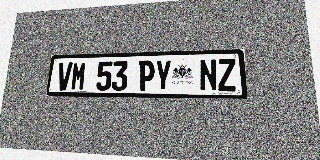3: (111, 61, 128, 91)
5: (96, 61, 113, 91)
M: (70, 62, 87, 91)
N: (199, 59, 218, 91)
P: (138, 60, 155, 91)
V: (56, 62, 73, 90)
Y: (155, 60, 171, 91)
Z: (217, 58, 237, 91)
